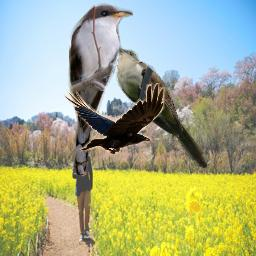Crow: (63, 83, 166, 155)
Cuckoo: (115, 45, 210, 169), (67, 3, 133, 175)
